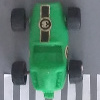verde: (11, 4, 83, 96)
